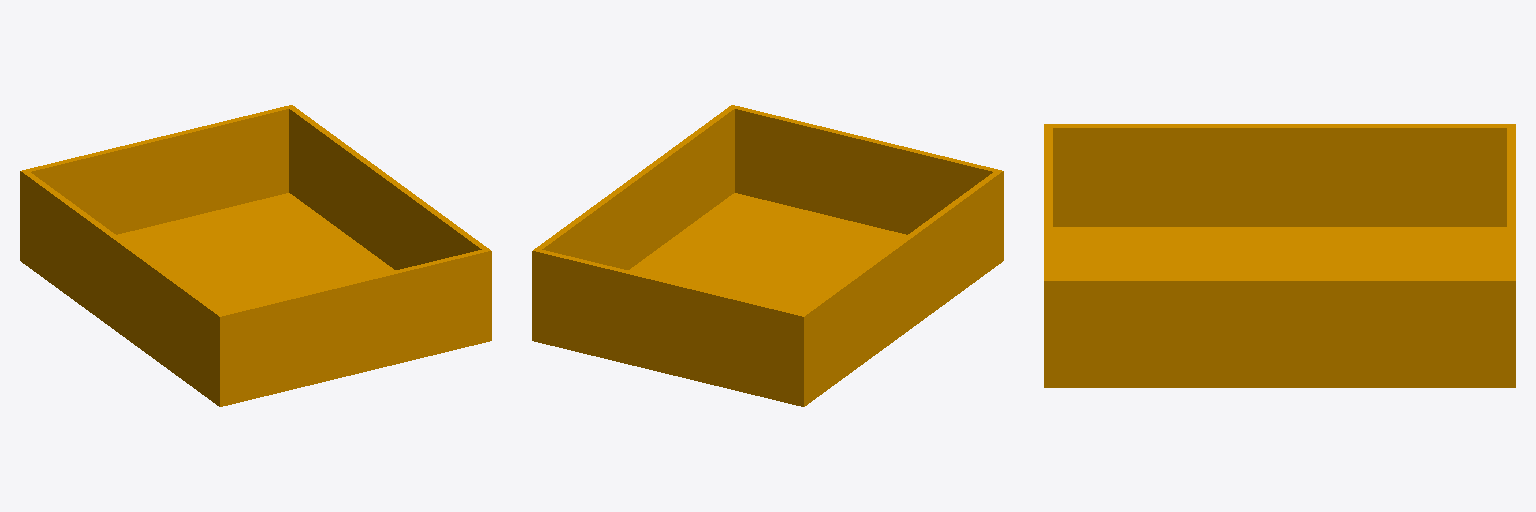
URDF robot description (bin):
<?xml version="1.0"?>
<robot name="bin">
  <link name="bin">
    <visual><geometry><mesh filename="bin_visual.obj"/></geometry></visual>
    <collision><geometry><mesh filename="bin.obj"/></geometry></collision>
  </link>
</robot>

--- Render facts (derived) ---
The picture shows the robot from 3 angles, left to right: view 1: azimuth 30°, elevation 25°; view 2: azimuth 150°, elevation 25°; view 3: azimuth 270°, elevation 25°; orthographic projection.
Model bin with 1 links and 0 joints (none), rooted at bin, posed all joints at 0.
Visible links, largest first — view 1: bin; view 2: bin; view 3: bin.
Link boxes in pixels (x1=…): bin: x1=20, y1=105, x2=491, y2=406; bin: x1=532, y1=105, x2=1003, y2=406; bin: x1=1044, y1=124, x2=1515, y2=387.
Bounding box of the posed robot: 0.22 × 0.28 × 0.07 m (x, y, z).
1 mesh visuals loaded from 1 distinct referenced files (1 OBJ).
